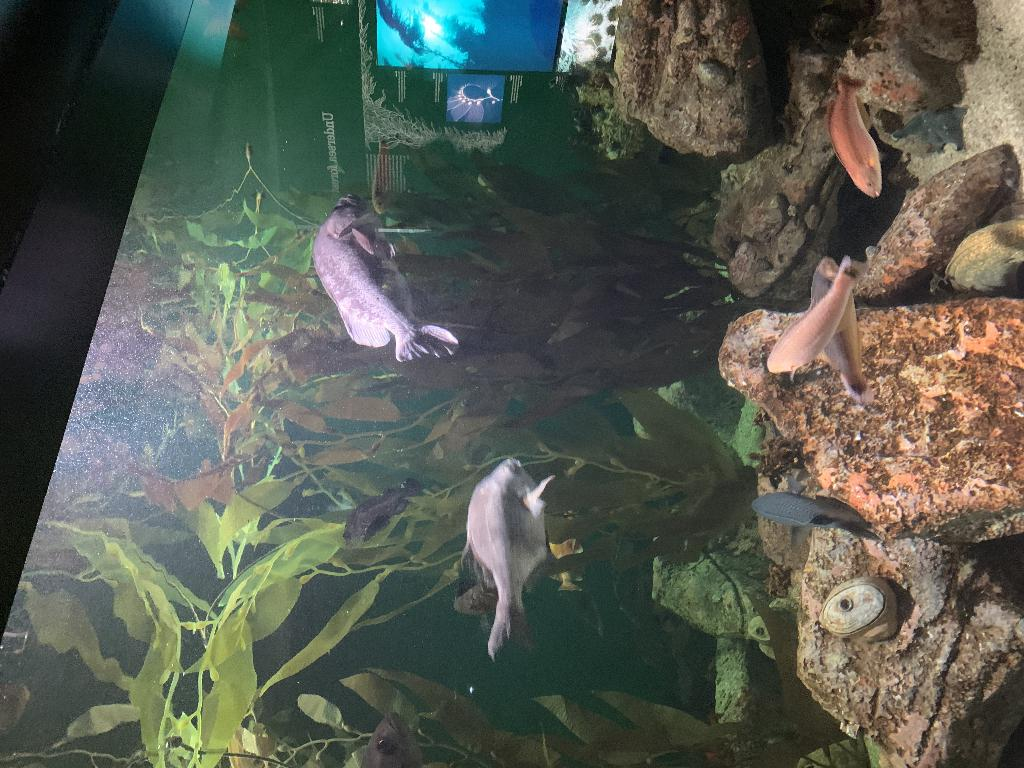fish: (308, 191, 460, 365), (454, 450, 560, 664), (762, 254, 868, 380), (806, 257, 876, 403), (822, 67, 890, 201), (751, 490, 881, 544), (336, 476, 426, 550), (356, 710, 450, 766)
